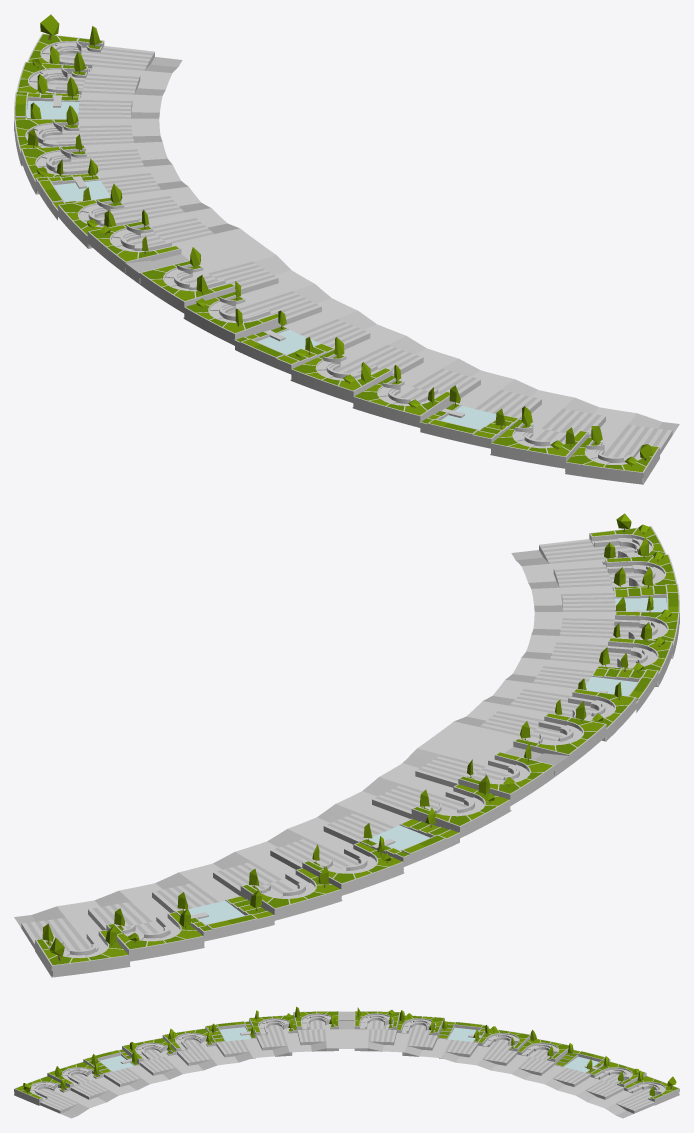
File: ring4_segment_low.glb
3 views of the same model, one above another, from view 1: azimuth 30°, elevation 25°; view 2: azimuth 150°, elevation 25°; view 3: azimuth 270°, elevation 25° (orthographic). The views are drawn at different scales.
Parts seen in each view (by area): view 1: RING_4_MOD_LOW; view 2: RING_4_MOD_LOW; view 3: RING_4_MOD_LOW.
Boxes of the visible parts, x1,y1,x2,y2 form: RING_4_MOD_LOW: (14,14,679,484); RING_4_MOD_LOW: (14,513,679,977); RING_4_MOD_LOW: (14,1006,679,1118).
Bounding box in the file's own units: 5319 × 1175 × 18494.
